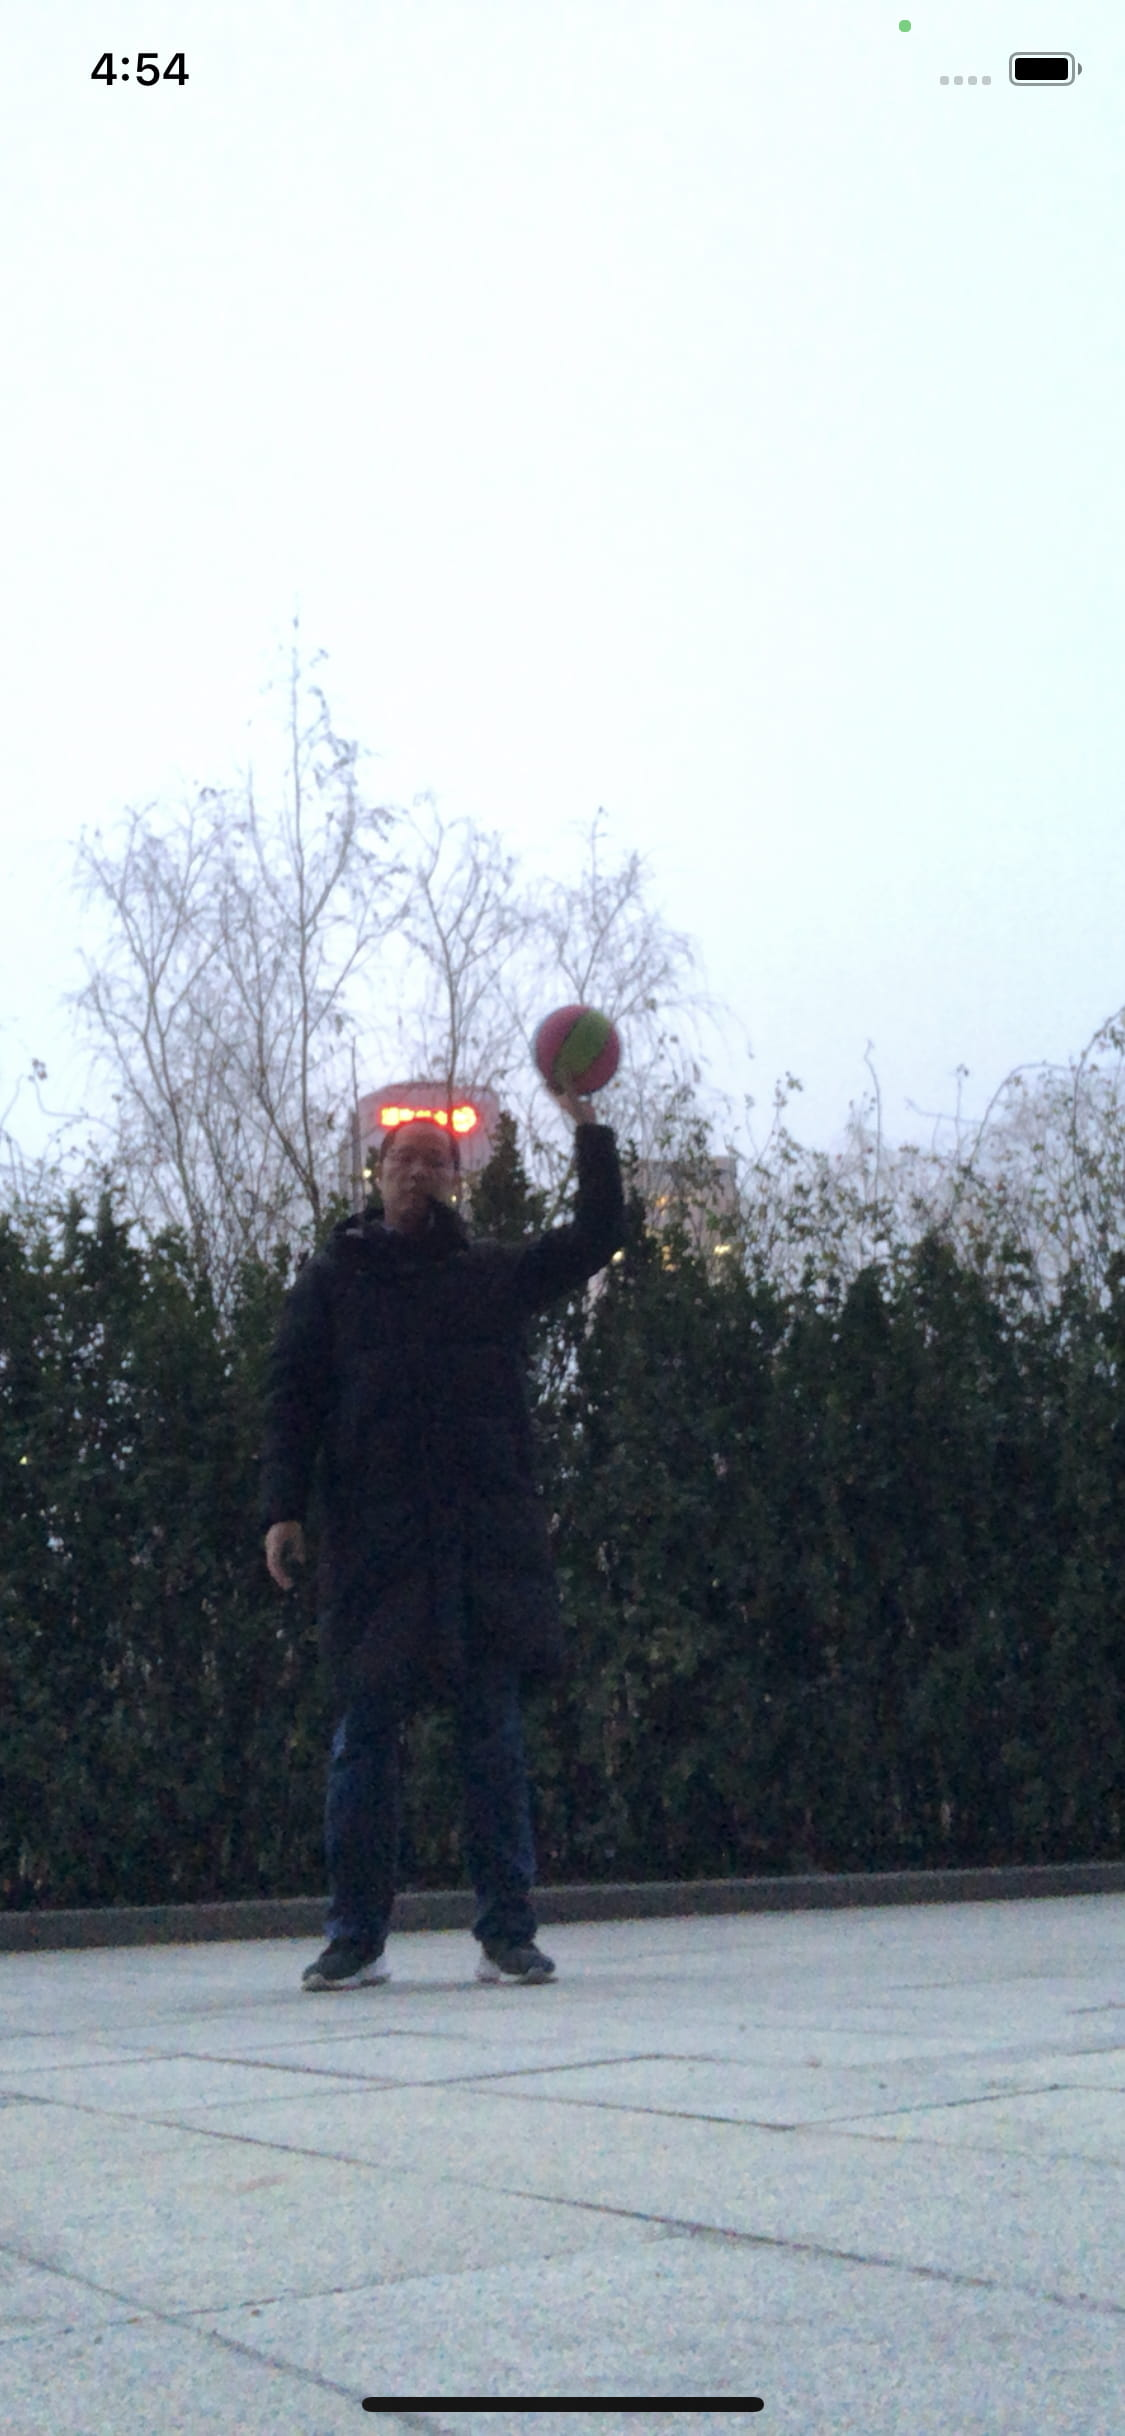ball: (535, 1002, 622, 1098)
